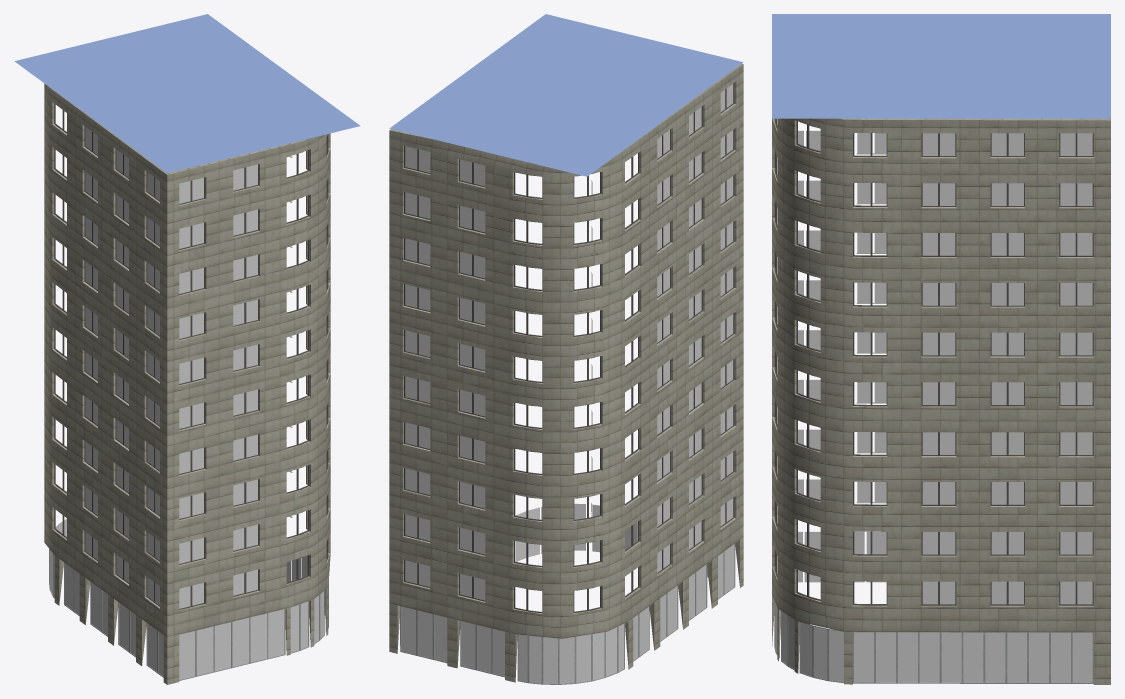
File: KB3D_NEC_BldgLG_A_BuildingA_H33.glb
3 views of the same model, side by side, from view 1: azimuth 30°, elevation 25°; view 2: azimuth 150°, elevation 25°; view 3: azimuth 270°, elevation 25° (orthographic). The views are drawn at different scales.
Parts seen in each view (by area): view 1: KB3D_NEC_BldgLG_A_BuildingA, roof_cap_node; view 2: KB3D_NEC_BldgLG_A_BuildingA, roof_cap_node; view 3: KB3D_NEC_BldgLG_A_BuildingA, roof_cap_node.
Boxes of the visible parts, bbox=[...] form: KB3D_NEC_BldgLG_A_BuildingA: bbox=[44, 83, 330, 684]; roof_cap_node: bbox=[14, 14, 360, 173]; KB3D_NEC_BldgLG_A_BuildingA: bbox=[389, 63, 743, 684]; roof_cap_node: bbox=[389, 14, 743, 176]; KB3D_NEC_BldgLG_A_BuildingA: bbox=[772, 118, 1110, 684]; roof_cap_node: bbox=[772, 14, 1110, 118].
Size of the model in its own units: 13.06 by 33 by 17.89.
Materials: 10 (8 with a texture image).
